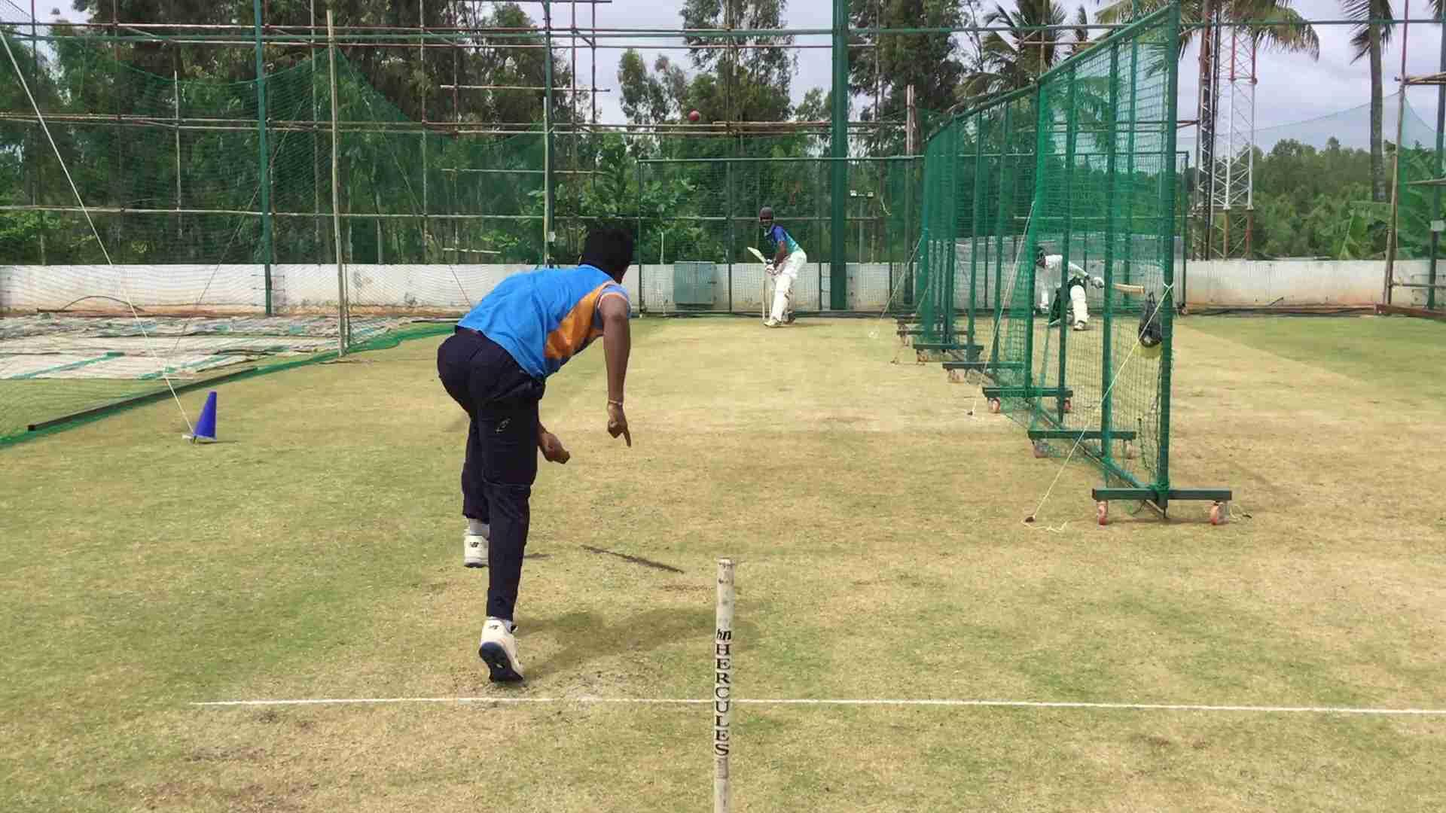batsman: (752, 203, 811, 332)
